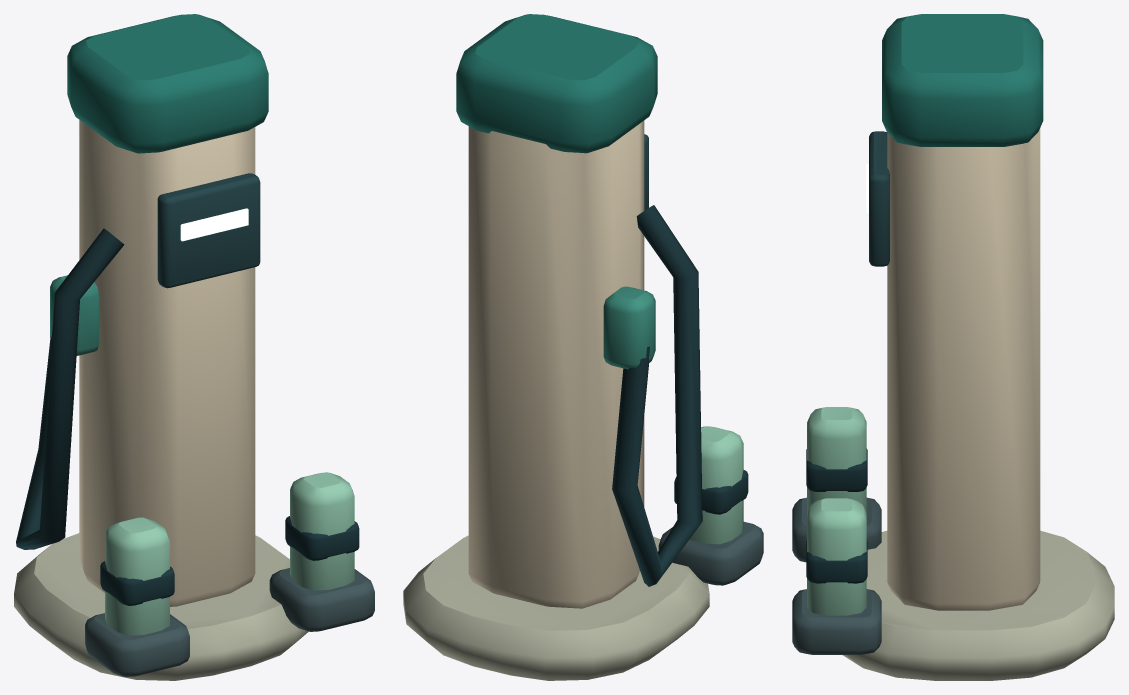
Rendered from ev_column.glb.
3 views of the same model, side by side, from view 1: azimuth 30°, elevation 25°; view 2: azimuth 150°, elevation 25°; view 3: azimuth 270°, elevation 25° (orthographic).
Visible parts, largest first — view 1: ev_column; view 2: ev_column; view 3: ev_column.
Part boxes in pixels (box(x1,y1,x2,y2)): ev_column: box(14, 14, 374, 680); ev_column: box(403, 14, 763, 680); ev_column: box(792, 14, 1114, 680).
Bounding box in the file's own units: 0.836 × 1.73 × 0.865.
